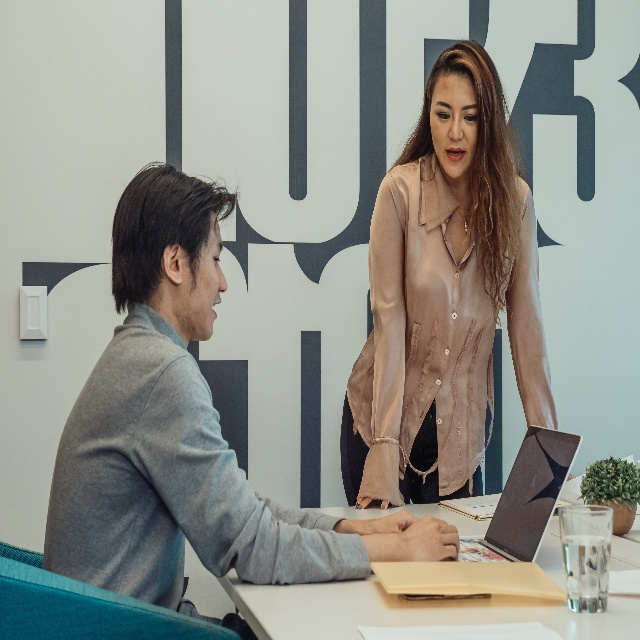Sin_guantes: (404, 514, 460, 562), (373, 509, 419, 532), (355, 493, 390, 511)
